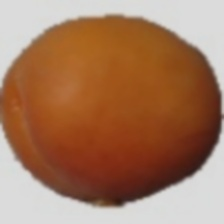apricot: (49, 34, 216, 177)
